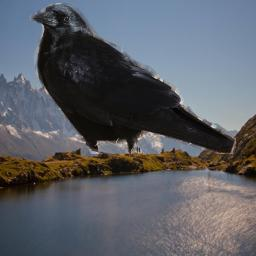Crow: (29, 3, 236, 154)
